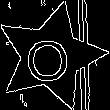O_N: (26, 29, 75, 83)
